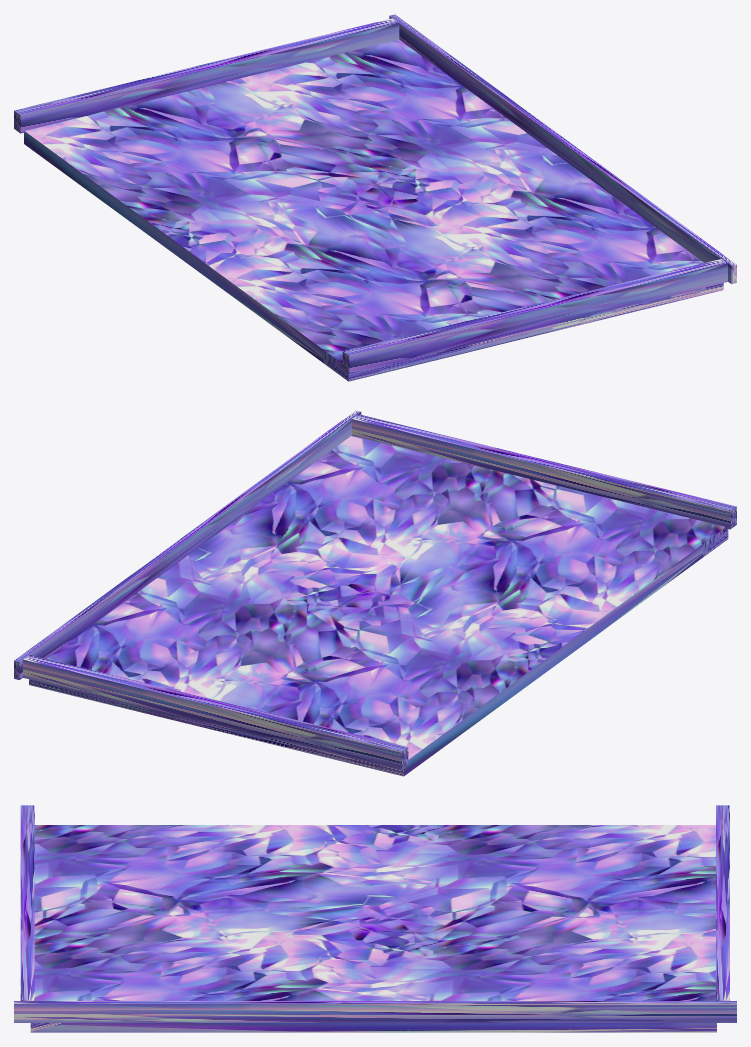
Rendered from mesa3.obj.
3 renders of one model, top to bottom at view 1: azimuth 30°, elevation 25°; view 2: azimuth 150°, elevation 25°; view 3: azimuth 270°, elevation 25°, orthographic. The views are drawn at different scales.
Parts seen in each view (by area): view 1: Mesa_style; view 2: Mesa_style; view 3: Mesa_style.
Boxes of the visible parts, bbox=[...] form: Mesa_style: bbox=[14, 14, 736, 381]; Mesa_style: bbox=[14, 410, 736, 776]; Mesa_style: bbox=[14, 805, 736, 1032].
Size of the model in its own units: 20.2 by 1.5 by 31.11.
1 material, 1 textured.
